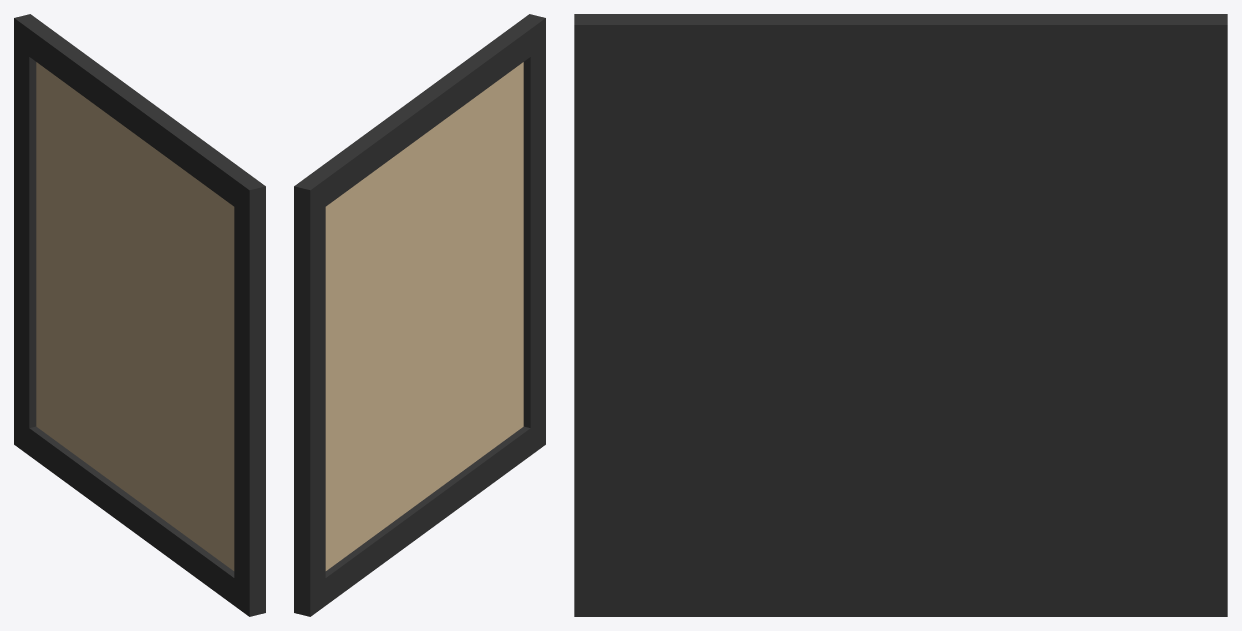
Rendered from Pin_board_picture.fbx.
The picture shows the model from 3 angles, left to right: view 1: azimuth 30°, elevation 25°; view 2: azimuth 150°, elevation 25°; view 3: azimuth 270°, elevation 25°; orthographic projection. The views are drawn at different scales.
Parts seen in each view (by area): view 1: Pin board picture; view 2: Pin board picture; view 3: Pin board picture.
Part boxes in pixels (x1=…): Pin board picture: x1=14, y1=14, x2=265, y2=616; Pin board picture: x1=294, y1=14, x2=545, y2=616; Pin board picture: x1=574, y1=14, x2=1227, y2=616.
Size of the model in its own units: 16 by 400 by 400.
